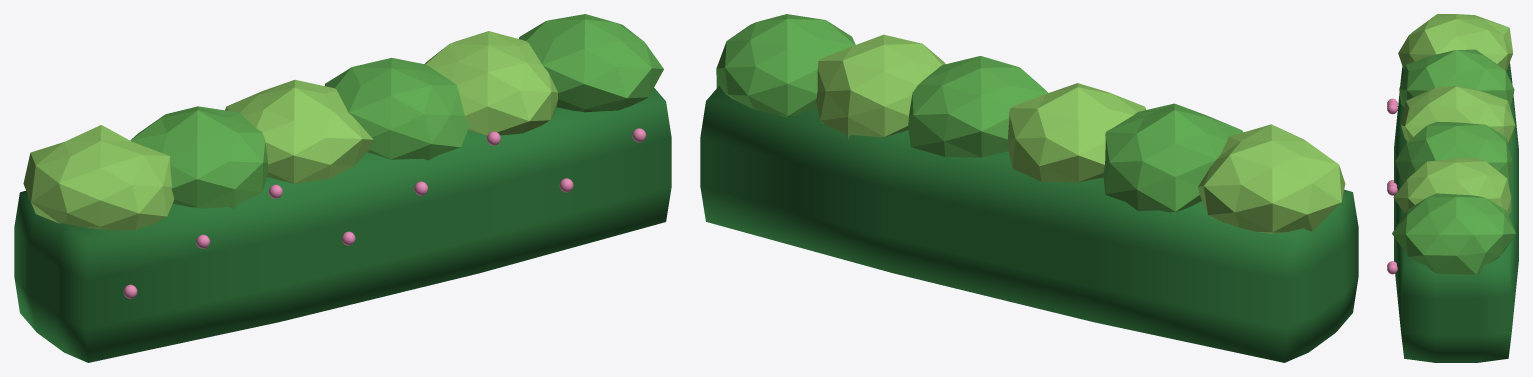
Rendered from hedge.glb.
The picture shows the model from 3 angles, left to right: view 1: azimuth 30°, elevation 25°; view 2: azimuth 150°, elevation 25°; view 3: azimuth 270°, elevation 25°; orthographic projection. The views are drawn at different scales.
Parts seen in each view (by area): view 1: root; view 2: root; view 3: root.
Boxes of the visible parts, x1,y1,x2,y2 form: root: (14, 14, 671, 362); root: (700, 14, 1358, 362); root: (1387, 14, 1518, 362).
Bounding box in the file's own units: 3.98 × 1.27 × 0.9692.
